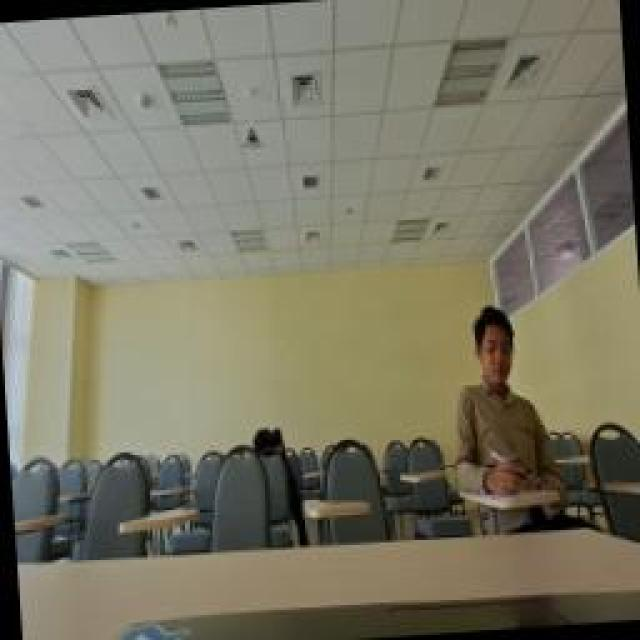sleep: (247, 422, 285, 460)
study: (445, 300, 560, 498)
